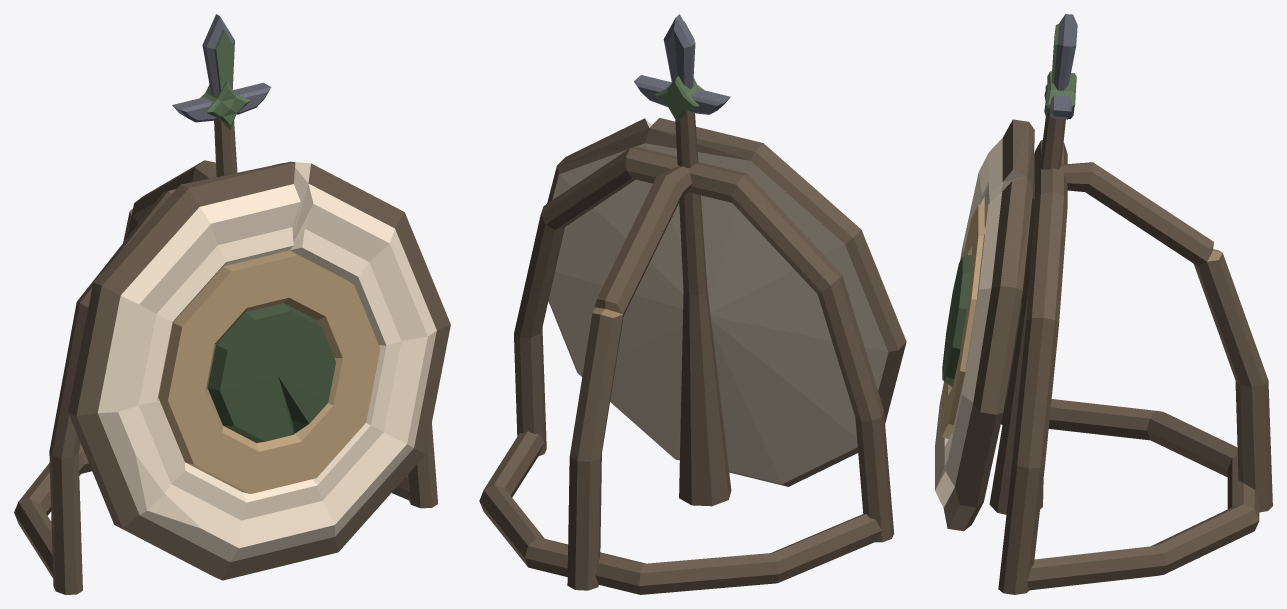
File: _DARTBOARD.fbx
3 views of the same model, side by side, from view 1: azimuth 30°, elevation 25°; view 2: azimuth 150°, elevation 25°; view 3: azimuth 270°, elevation 25° (orthographic). The views are drawn at different scales.
Visible parts, largest first — view 1: DARTBOARD; view 2: DARTBOARD; view 3: DARTBOARD.
Boxes of the visible parts, <box> form: DARTBOARD: <box>14,14,450,594</box>; DARTBOARD: <box>479,14,906,594</box>; DARTBOARD: <box>935,14,1272,594</box>.
Bounding box in the file's own units: 155 × 199 × 123.
